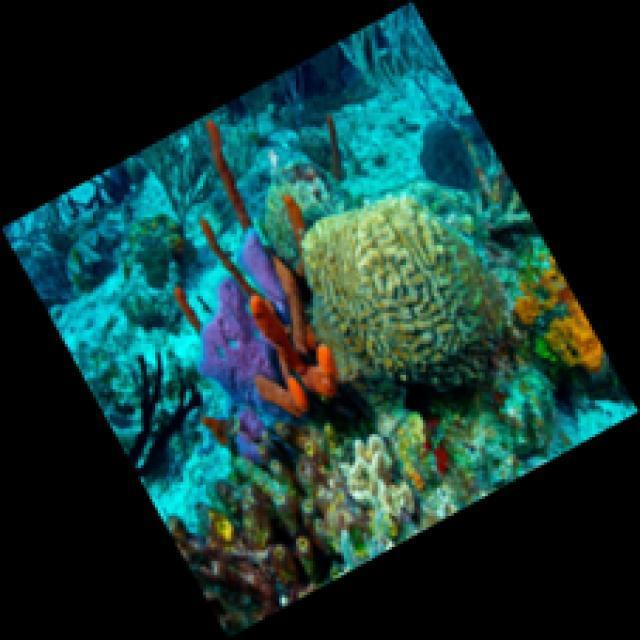Healthy: (177, 124, 309, 348), (202, 230, 292, 455), (247, 259, 341, 429), (517, 255, 605, 375)
